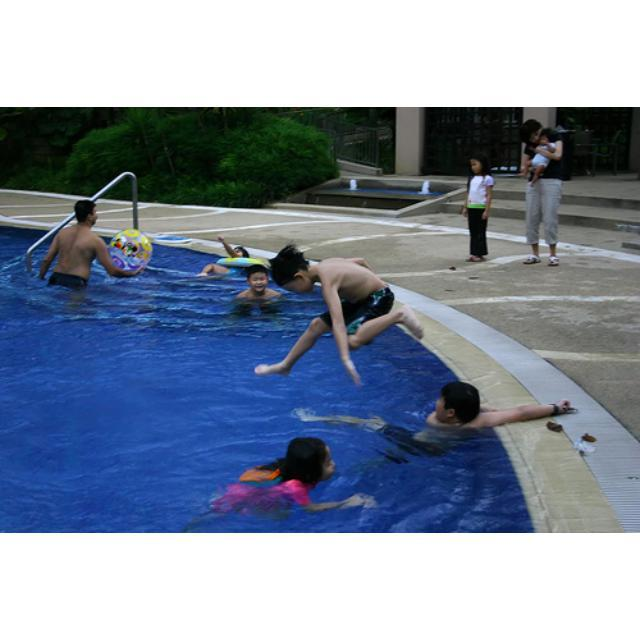human: (270, 244, 421, 393), (212, 434, 369, 517), (41, 200, 143, 293), (400, 376, 484, 460), (232, 262, 283, 308)
